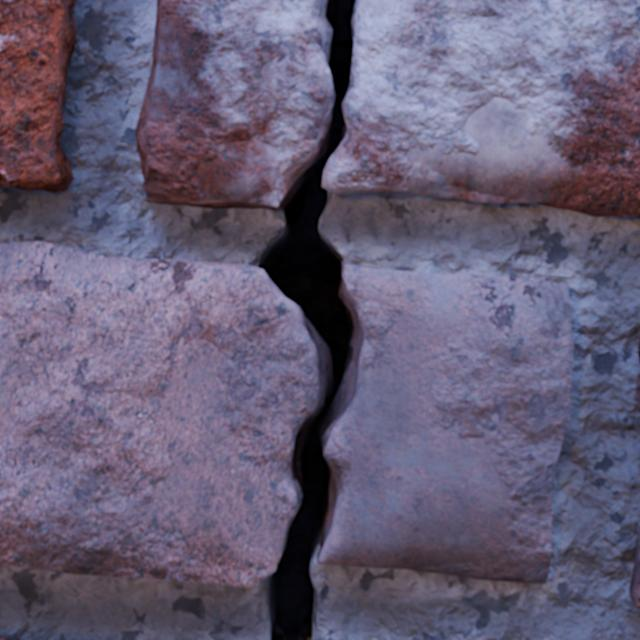broken_brick: (0, 241, 316, 587), (317, 262, 573, 583), (322, 0, 639, 216), (135, 0, 330, 210)
crack: (254, 0, 364, 639), (0, 0, 76, 192), (629, 508, 639, 607), (163, 0, 170, 69), (636, 375, 639, 412), (191, 196, 226, 199), (270, 168, 275, 182), (638, 339, 639, 361)
